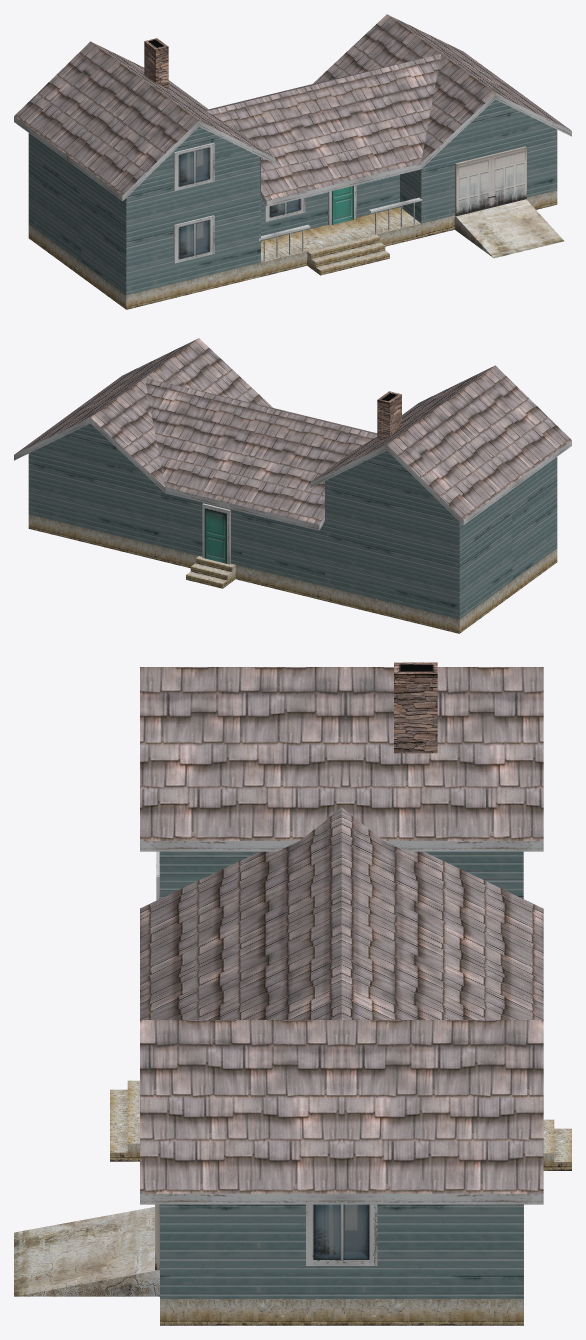
File: houseDLOD.FBX
The picture shows the model from 3 angles, top to bottom: view 1: azimuth 30°, elevation 25°; view 2: azimuth 150°, elevation 25°; view 3: azimuth 270°, elevation 25°; orthographic projection. The views are drawn at different scales.
Parts seen in each view (by area): view 1: houseDLOD; view 2: houseDLOD; view 3: houseDLOD.
Part boxes in pixels (<box>): houseDLOD: <box>14,14,571,309</box>; houseDLOD: <box>14,338,571,633</box>; houseDLOD: <box>14,662,571,1325</box>.
Bounding box in the file's own units: 493 × 201 × 285.
